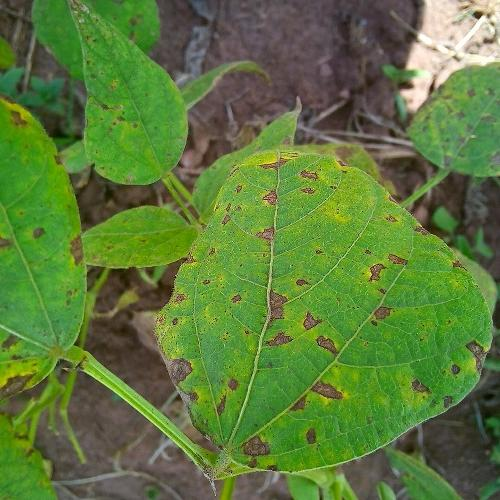mozaik: (158, 336, 348, 456), (274, 208, 434, 320), (154, 184, 264, 312), (361, 325, 479, 397)
